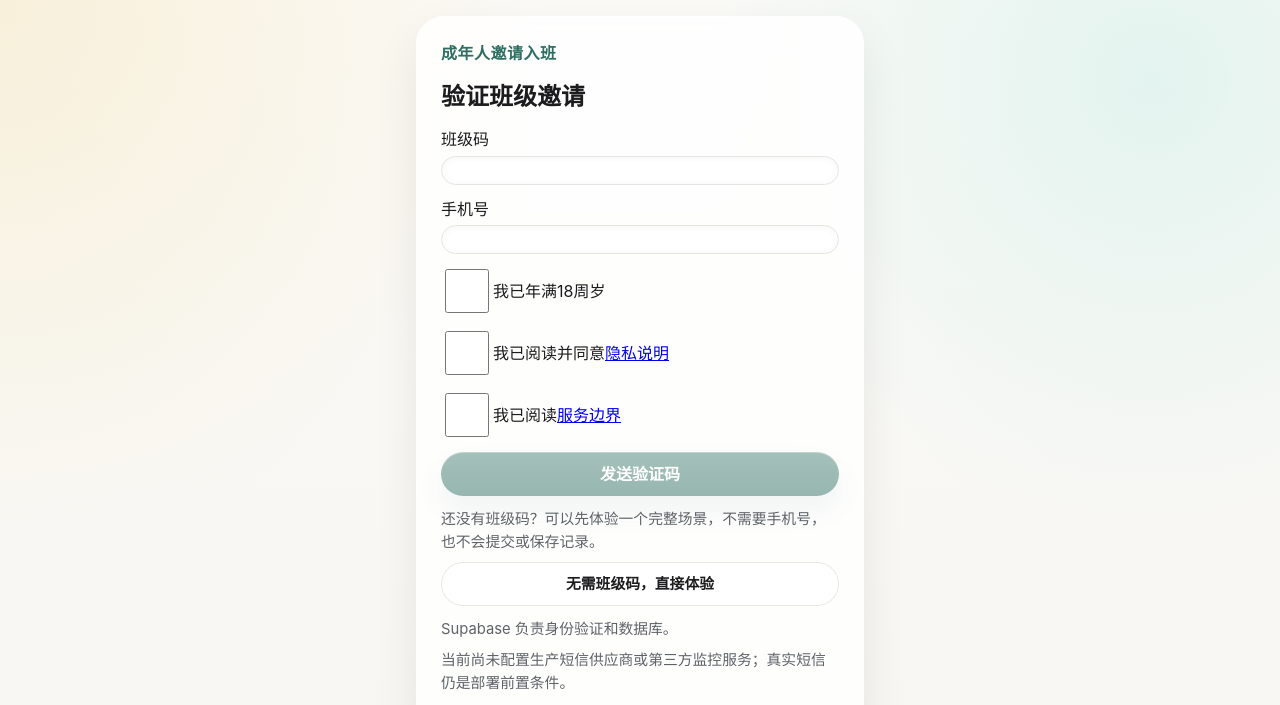
JoinCohortPage › uses the same message for an invalid or expired invite
Type "ABC123" into the field labelled "班级码" at (640, 170), box [441,156,839,185]
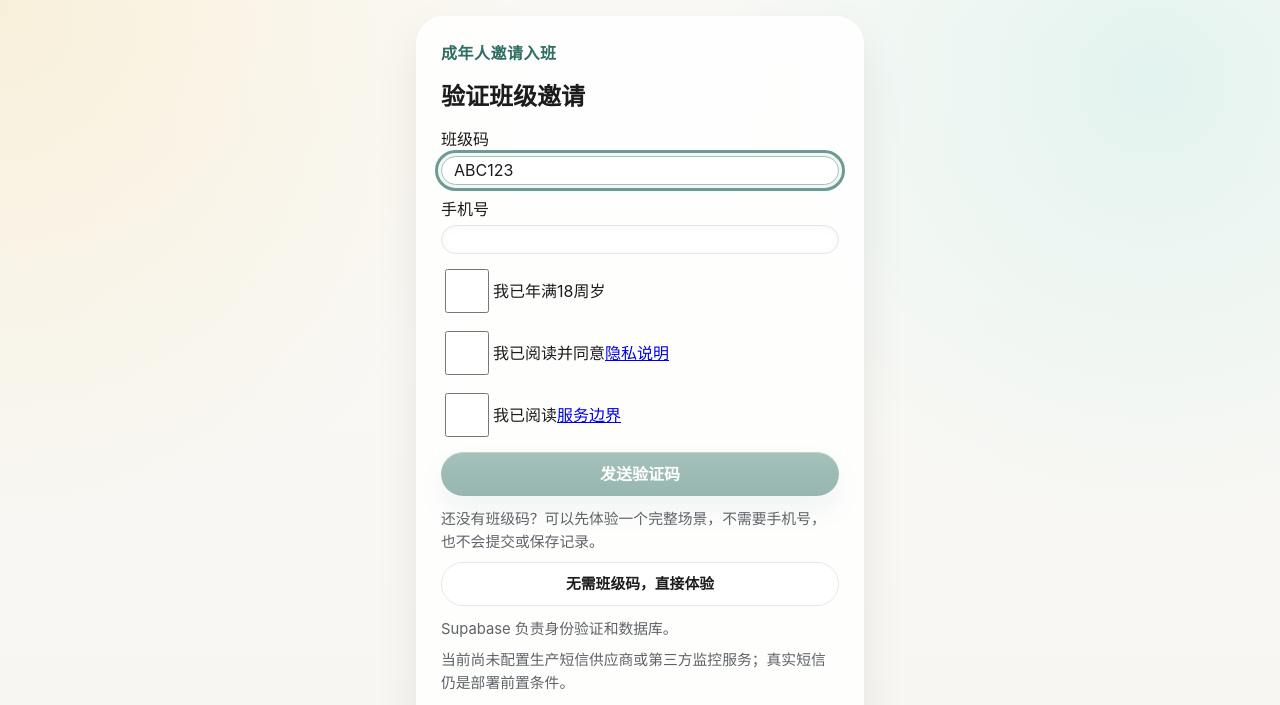
Type "13800138000" into the field labelled "手机号" at (640, 240), box [441,225,839,254]
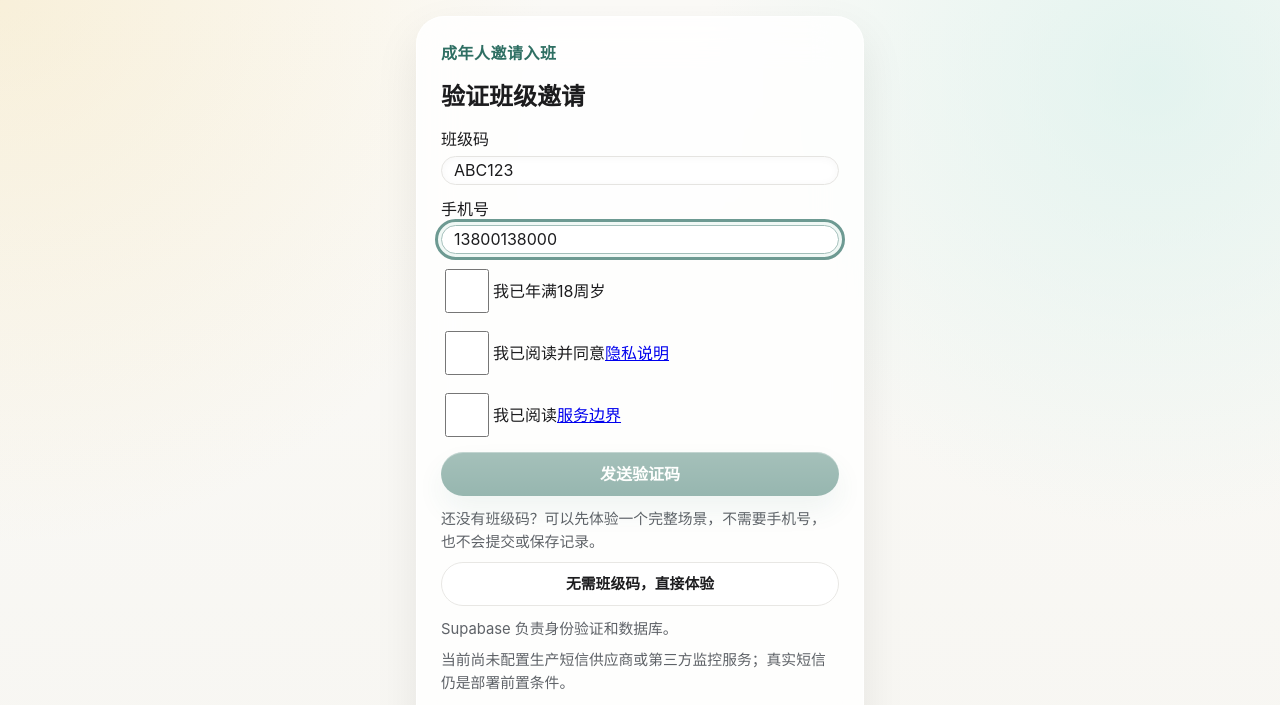
Click the checkbox labelled "我已年满18周岁" at (467, 291), box [445,269,489,313]
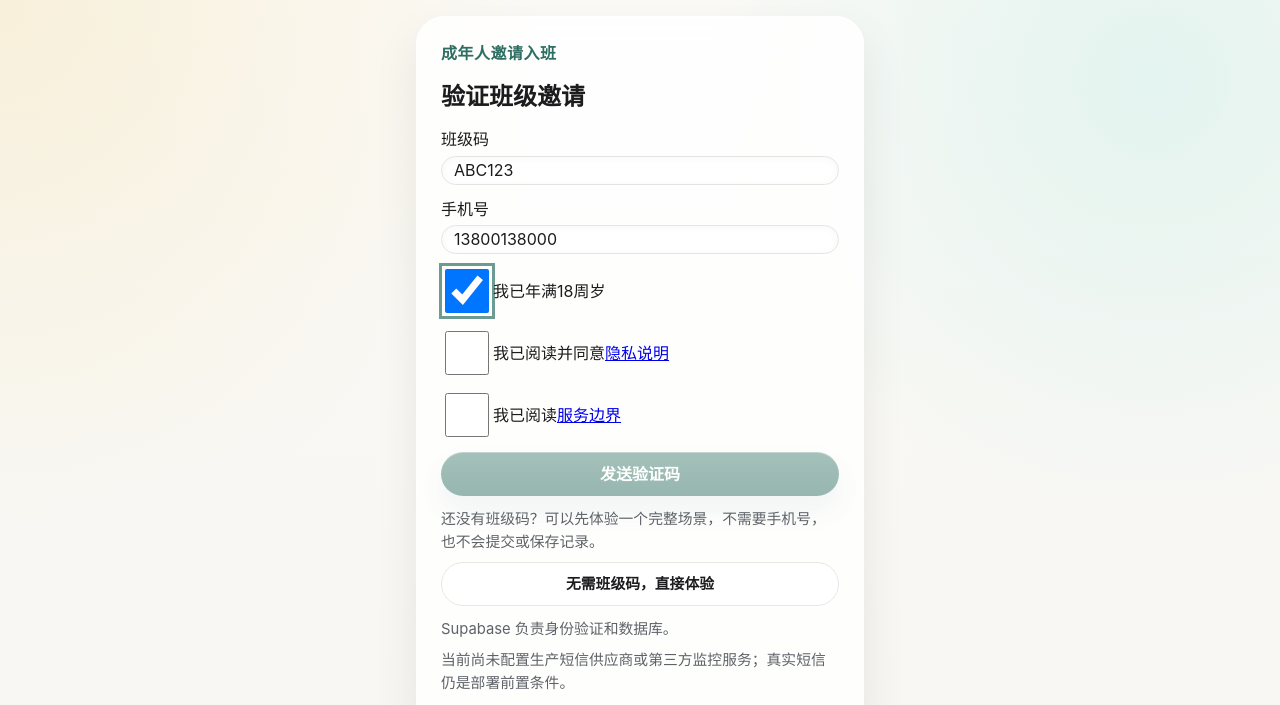
Click the checkbox named "我已阅读并同意隐私说明" at (467, 353), box [445,331,489,375]
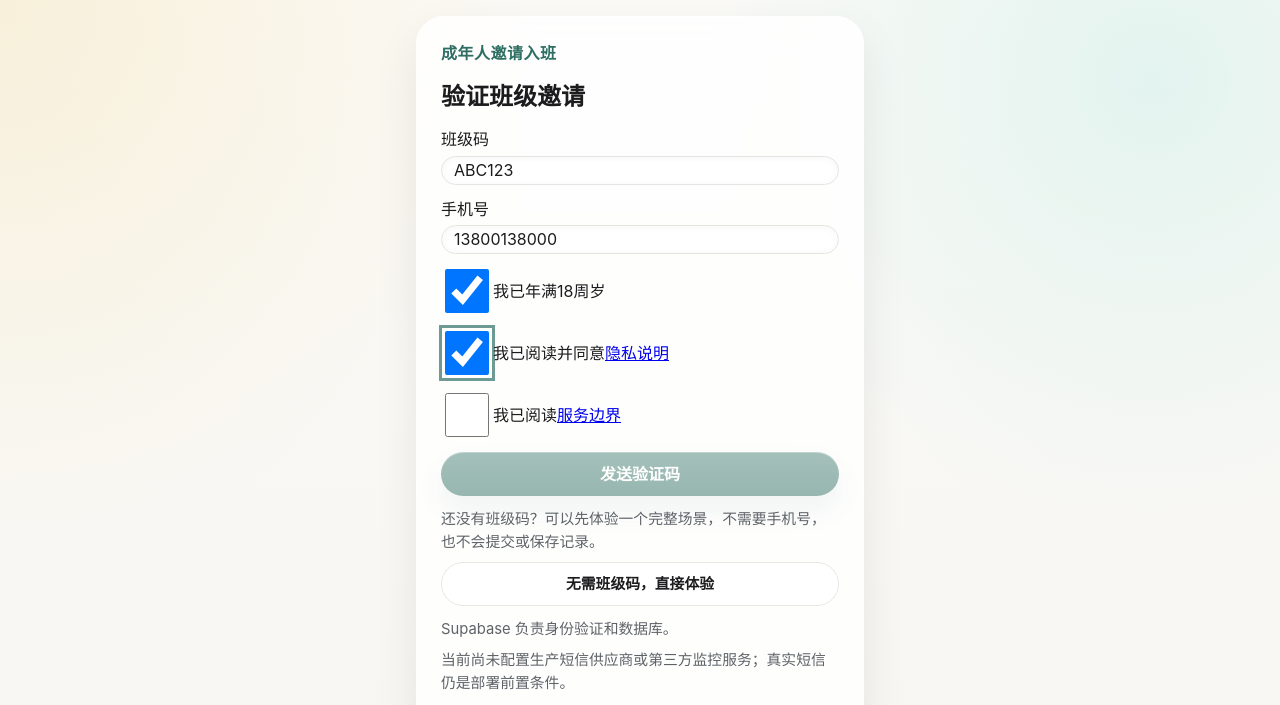
Click the checkbox named "我已阅读服务边界" at (467, 415), box [445,393,489,437]
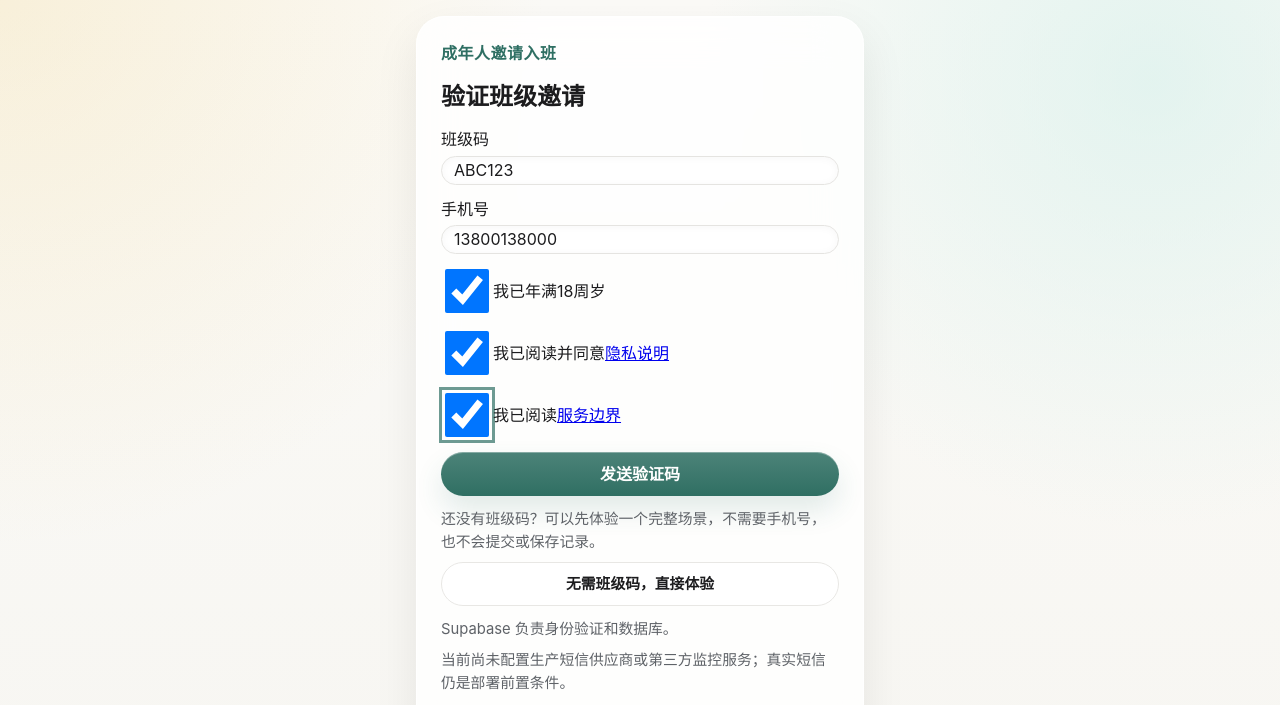
Click the button "发送验证码" at (640, 474), box [441,452,839,496]
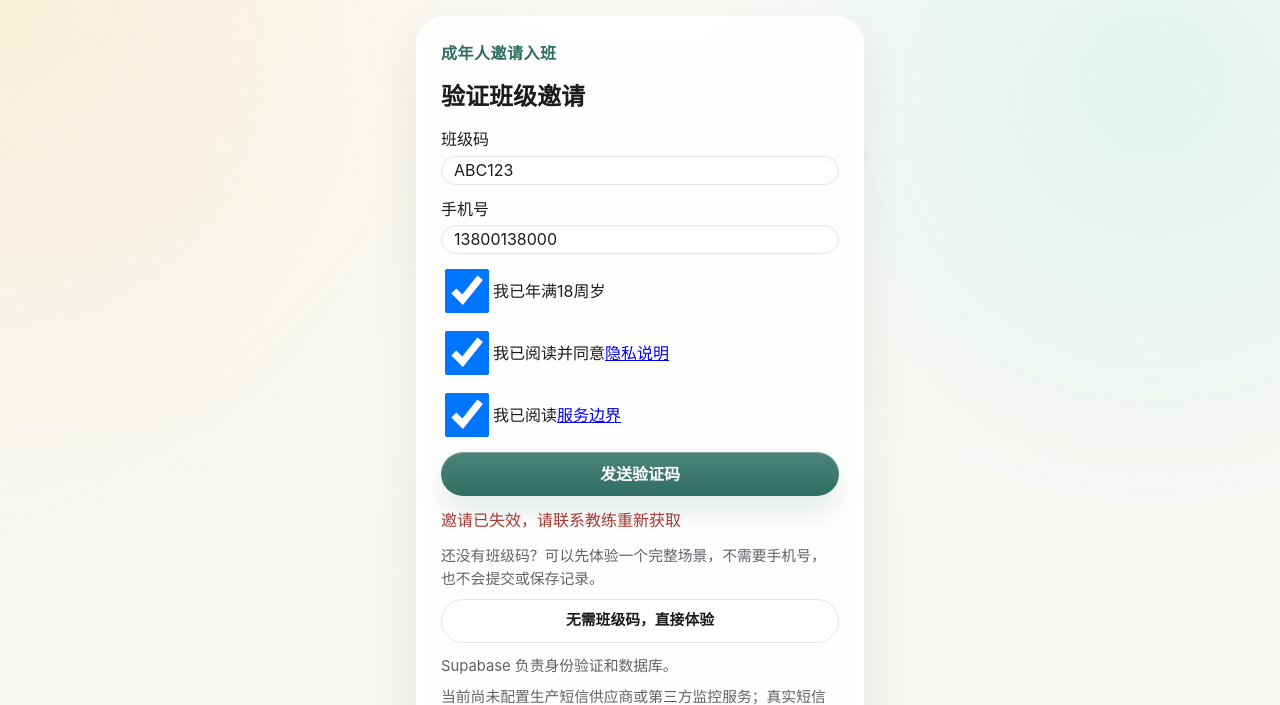
Result: the message reads "邀请已失效，请联系教练重新获取" at [441,510,681,530]
